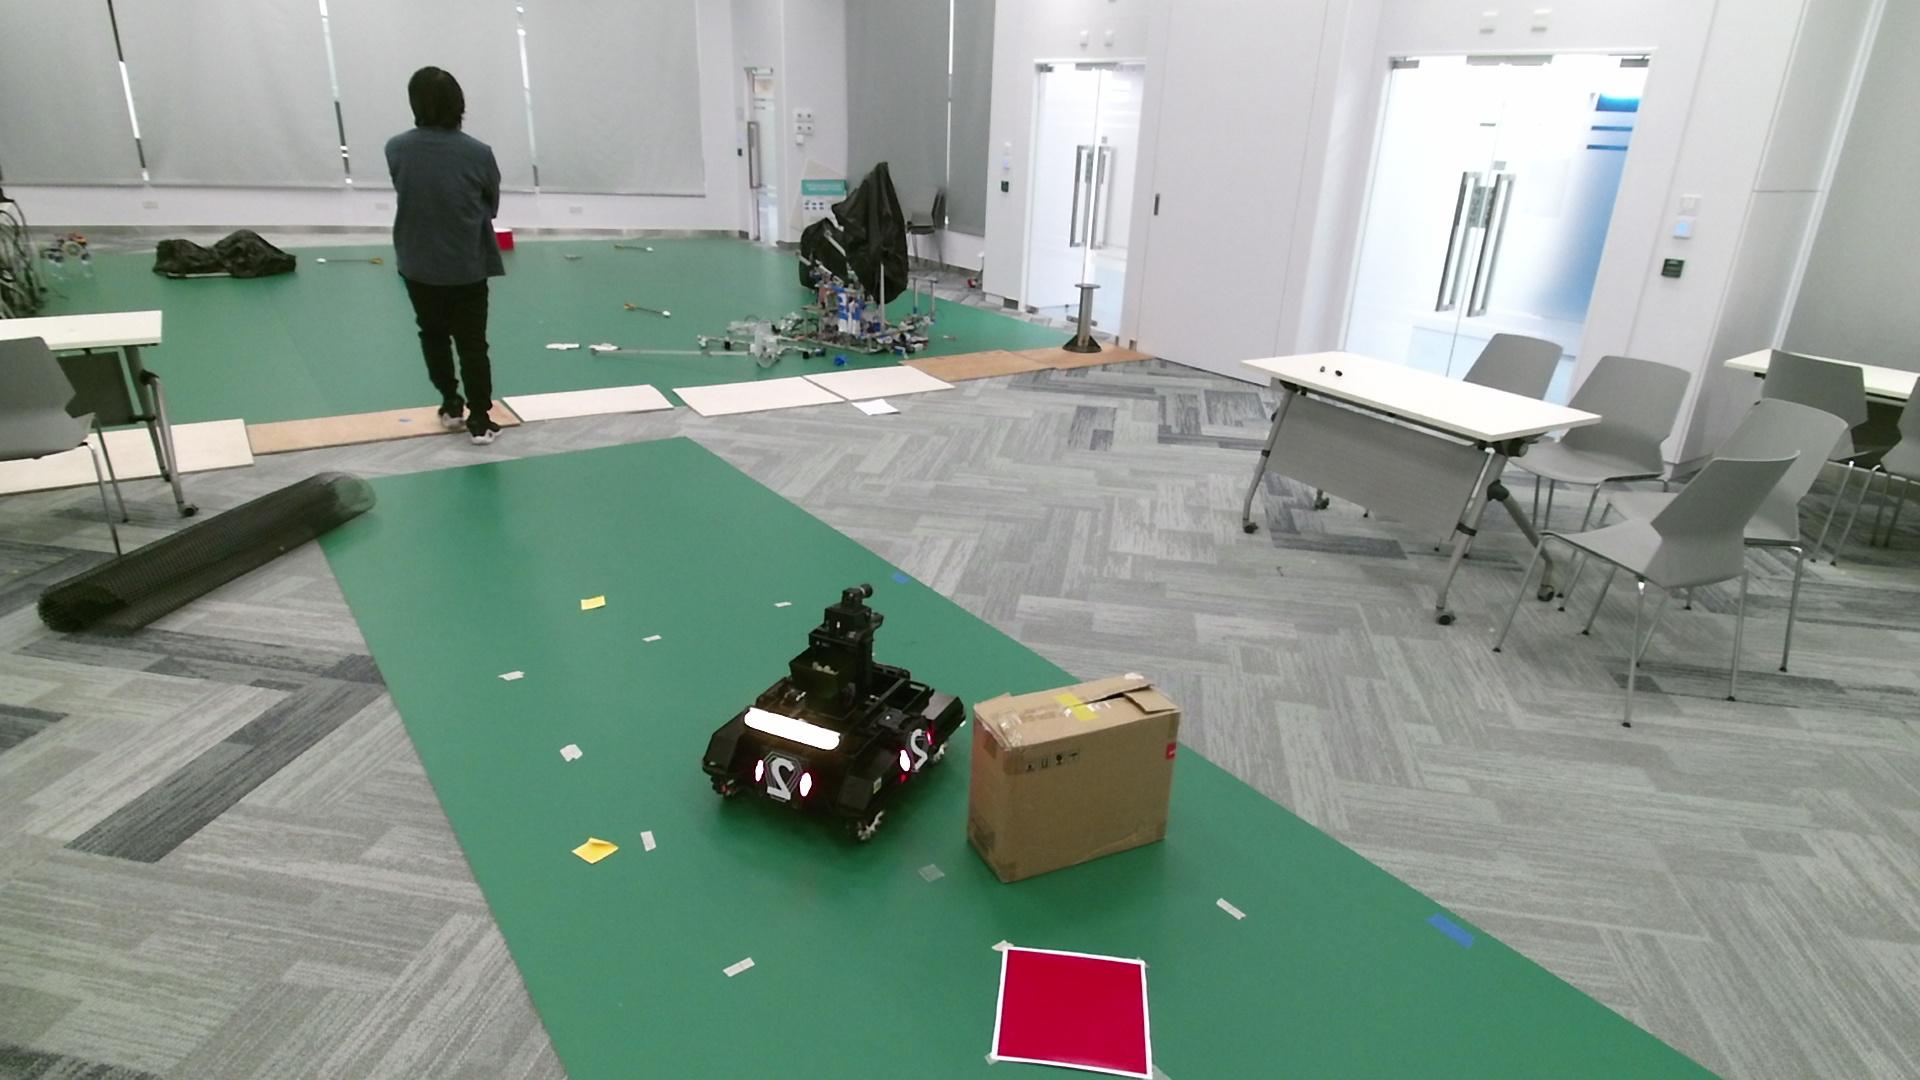robot: (702, 582, 967, 843)
